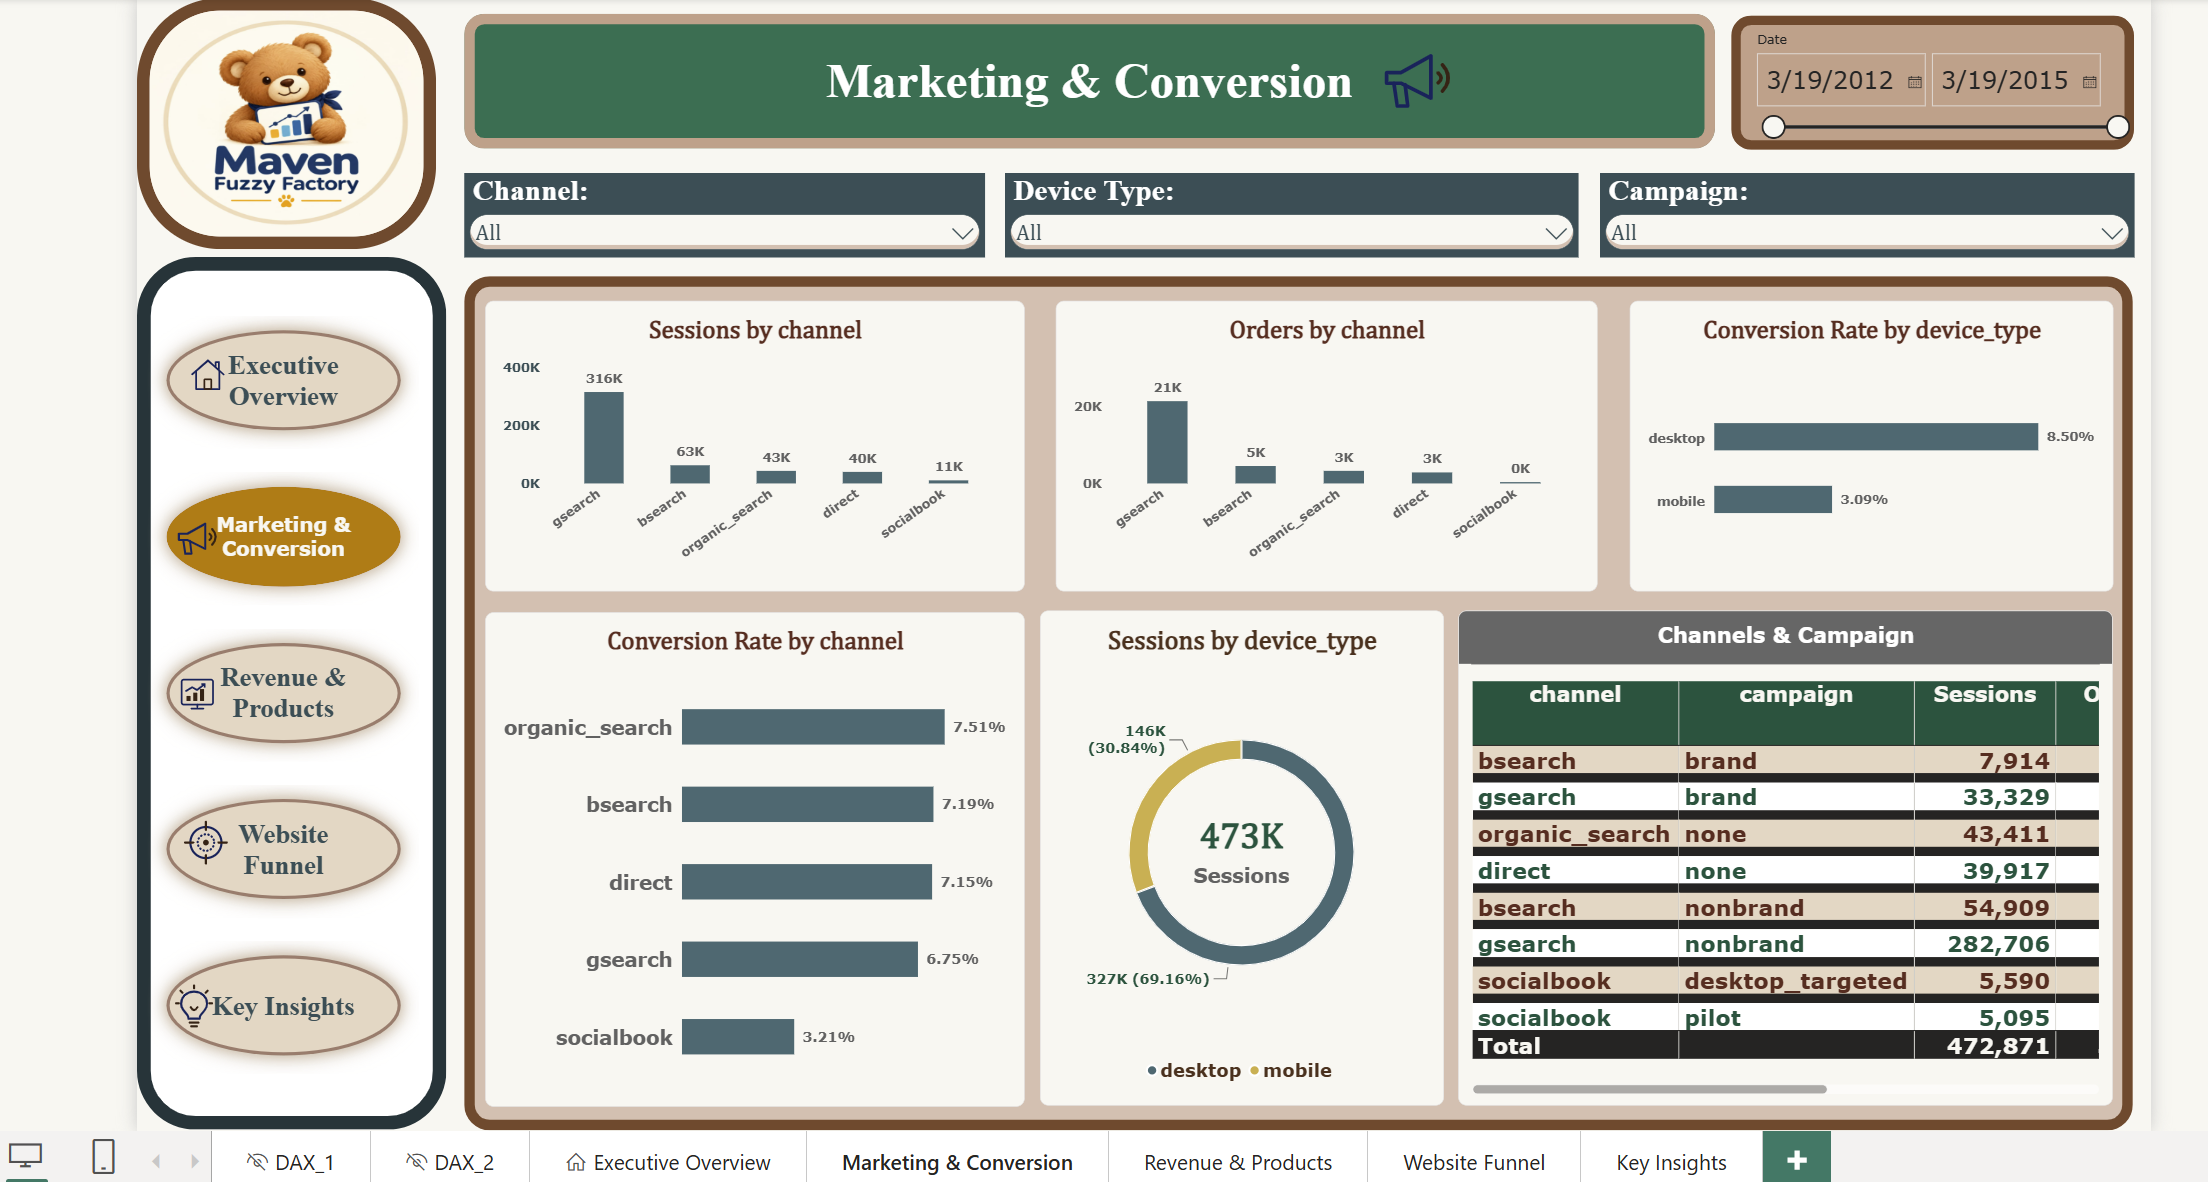

The dashboard page shown, as its layout file describes it:
{"tool":"powerbi","page":{"name":"Marketing & Conversion","canvas":[1920,1080],"ordinal":3},"visuals":[{"type":"shape","box":[0,247.1,295,832],"z":0,"group":"g1"},{"type":"image","box":[988,962.6,50.8,48.7],"z":0},{"type":"shape","box":[312.6,15.1,1192.5,128.6],"z":1000,"group":"g4"},{"type":"image","box":[1074.7,962.6,50.8,48.7],"z":1000},{"type":"shape","box":[1520,16,384,128],"z":2000,"group":"g4"},{"type":"group","id":"g1","title":"Group 1","box":[0,247.1,295,832],"z":2000},{"type":"group","id":"g2","title":"Group 3","box":[0,0,1904,247.5],"z":3000},{"type":"shape","box":[312.6,264.7,1590.8,814.3],"z":3000,"group":"g3"},{"type":"image","box":[0,0,284.9,239.5],"z":4000,"group":"g4"},{"type":"group","id":"g3","title":"Group 4","box":[312.6,264.7,1590.8,814.3],"z":4000},{"type":"slicer","fields":{"Values":["Dates.Date"]},"box":[1536,32,368,112],"z":5000,"group":"g4"},{"type":"pageNavigator","box":[0,287.4,279.8,753.8],"z":6000,"group":"g1"},{"type":"clusteredBarChart","title":"Conversion Rate by channel","fields":{"Category":["maven_fuzzy_factory website_sessions.channel"],"Y":["N_Measures.Conversion Rate"]},"box":[332.8,584.9,514.3,471.5],"z":7000,"group":"g3"},{"type":"clusteredColumnChart","fields":{"Category":["maven_fuzzy_factory website_sessions.channel"],"Y":["N_Measures.Sessions"]},"box":[332.8,287.4,514.3,277.3],"z":8000,"group":"g3"},{"type":"clusteredBarChart","fields":{"Category":["maven_fuzzy_factory website_sessions.device_type"],"Y":["N_Measures.Conversion Rate"]},"box":[1424.4,287.4,461.4,277.3],"z":9000,"group":"g3"},{"type":"image","box":[47.9,335.3,38.5,47.5],"z":10000,"group":"g1"},{"type":"image","box":[22.7,491.6,64,48],"z":11000,"group":"g1"},{"type":"image","box":[37.8,642.9,38.5,43],"z":12000,"group":"g1"},{"type":"image","box":[42.3,768,47.9,75.6],"z":13000,"group":"g1"},{"type":"slicer","fields":{"Values":["maven_fuzzy_factory website_sessions.channel"]},"box":[312.6,166.4,496.7,80.7],"z":14000,"group":"g2"},{"type":"slicer","fields":{"Values":["maven_fuzzy_factory website_sessions.device_type"]},"box":[826.9,166.4,547.1,80.7],"z":15000,"group":"g2"},{"type":"slicer","fields":{"Values":["maven_fuzzy_factory website_sessions.campaign"]},"box":[1394.2,167.1,509.8,80.4],"z":16000,"group":"g2"},{"type":"clusteredColumnChart","fields":{"Category":["maven_fuzzy_factory website_sessions.channel"],"Y":["N_Measures.Orders"]},"box":[877.3,287.4,516.8,277.3],"z":17000,"group":"g3"},{"type":"tableEx","title":"Channels & Campaign","fields":{"Values":["maven_fuzzy_factory website_sessions.channel","maven_fuzzy_factory website_sessions.campaign","N_Measures.Sessions","N_Measures.Orders","N_Measures.Conversion Rate","N_Measures.Revenue per Session"]},"box":[1260.9,583.9,624.1,471.8],"z":18000,"group":"g3"},{"type":"image","box":[16.9,939.3,75.6,47.9],"z":20000,"group":"g1"},{"type":"image","box":[1172.3,40.3,88.2,80.7],"z":21000,"group":"g4"},{"type":"donutChart","fields":{"Category":["maven_fuzzy_factory website_sessions.device_type"],"Y":["N_Measures.Sessions"]},"box":[861,583.9,385,471.8],"z":21001,"group":"g3"},{"type":"group","id":"g4","title":"Group 2","box":[0,0,1904,239.5],"z":21005,"group":"g2"}]}

Visuals, with their boxes on the page's 1920x1080 design canvas (x1, y1, x2, y2). These are canvas units, not pixel positions in the 2208x1182 screenshot, which may show the page scaled, cropped or inside an application window:
shape: 0 247 295 1079
image: 988 963 1039 1011
shape: 313 15 1505 144
image: 1075 963 1126 1011
shape: 1520 16 1904 144
"Group 1" group: 0 247 295 1079
"Group 3" group: 0 0 1904 248
shape: 313 265 1903 1079
image: 0 0 285 240
"Group 4" group: 313 265 1903 1079
slicer - Dates.Date: 1536 32 1904 144
pageNavigator: 0 287 280 1041
"Conversion Rate by channel" clusteredBarChart: 333 585 847 1056
clusteredColumnChart - maven_fuzzy_factory website_sessions.channel x N_Measures.Sessions: 333 287 847 565
clusteredBarChart - maven_fuzzy_factory website_sessions.device_type x N_Measures.Conversion Rate: 1424 287 1886 565
image: 48 335 86 383
image: 23 492 87 540
image: 38 643 76 686
image: 42 768 90 844
slicer - maven_fuzzy_factory website_sessions.channel: 313 166 809 247
slicer - maven_fuzzy_factory website_sessions.device_type: 827 166 1374 247
slicer - maven_fuzzy_factory website_sessions.campaign: 1394 167 1904 248
clusteredColumnChart - maven_fuzzy_factory website_sessions.channel x N_Measures.Orders: 877 287 1394 565
"Channels & Campaign" tableEx: 1261 584 1885 1056
image: 17 939 92 987
image: 1172 40 1260 121
donutChart - maven_fuzzy_factory website_sessions.device_type x N_Measures.Sessions: 861 584 1246 1056
"Group 2" group: 0 0 1904 240
